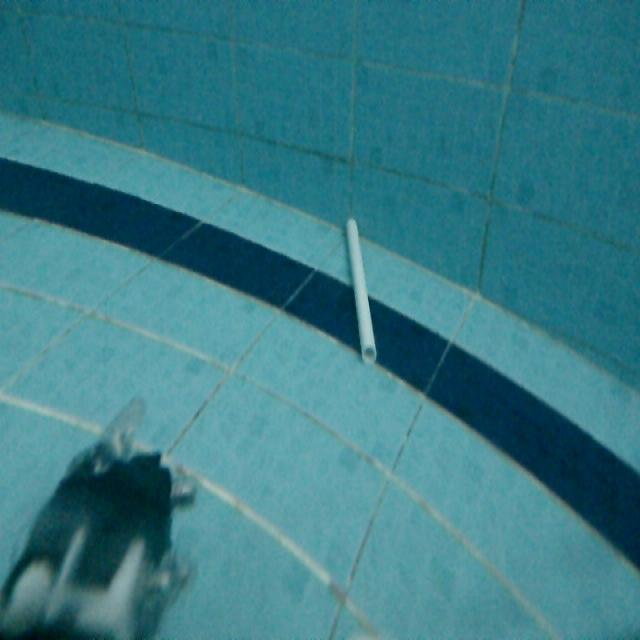Cube: (342, 211, 380, 365)
